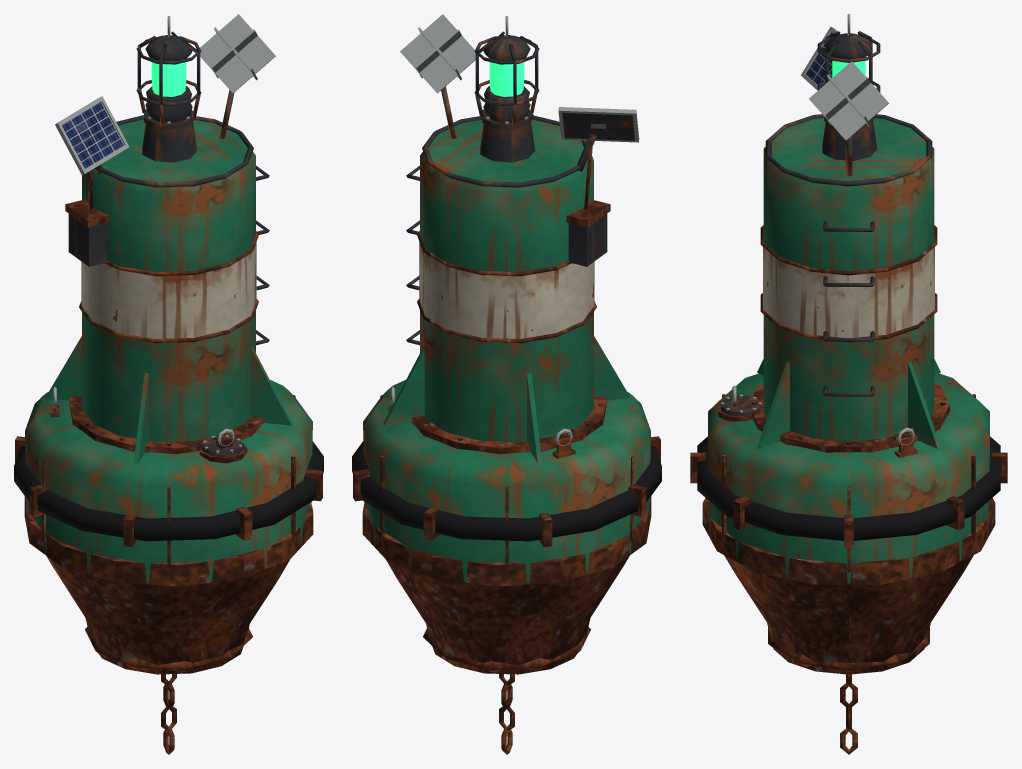
File: buoy_port_can.glb
3 views of the same model, side by side, from view 1: azimuth 30°, elevation 25°; view 2: azimuth 150°, elevation 25°; view 3: azimuth 270°, elevation 25° (orthographic).
Visible parts, largest first — view 1: buoy_port_can; view 2: buoy_port_can; view 3: buoy_port_can.
Part boxes in pixels (x1,y1,x2,y2): buoy_port_can: (14, 14, 323, 754); buoy_port_can: (352, 14, 661, 754); buoy_port_can: (690, 14, 1007, 754).
Bounding box in the file's own units: 1.89 × 4.85 × 1.89.
9 materials, 5 textured.
